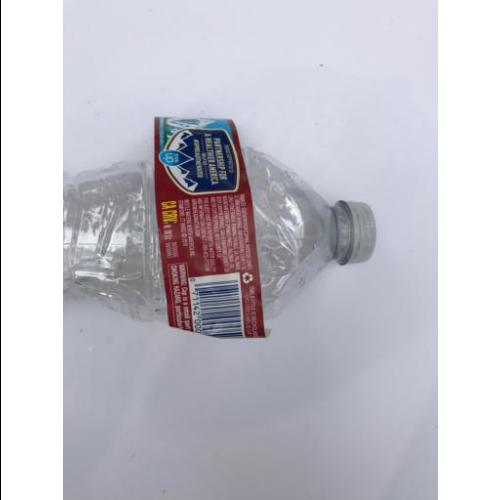plastic: (65, 117, 380, 339)
